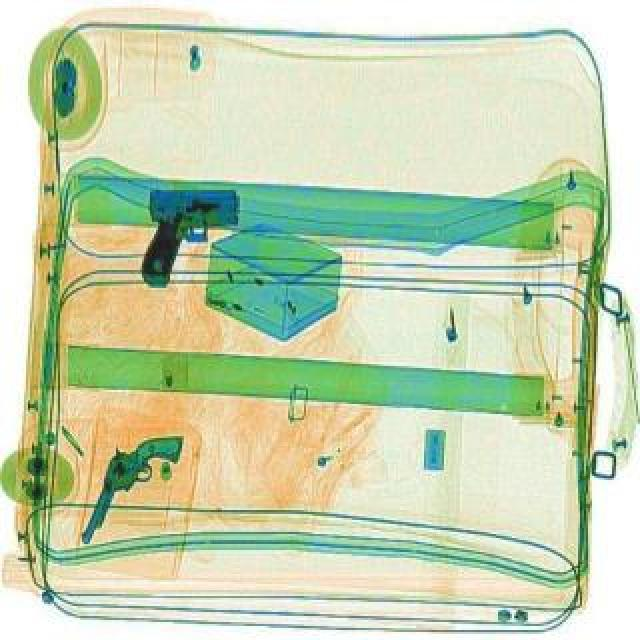gun: (64, 410, 188, 560), (138, 182, 246, 286)
